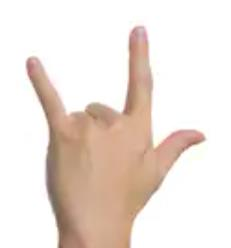back: (23, 21, 208, 226)
